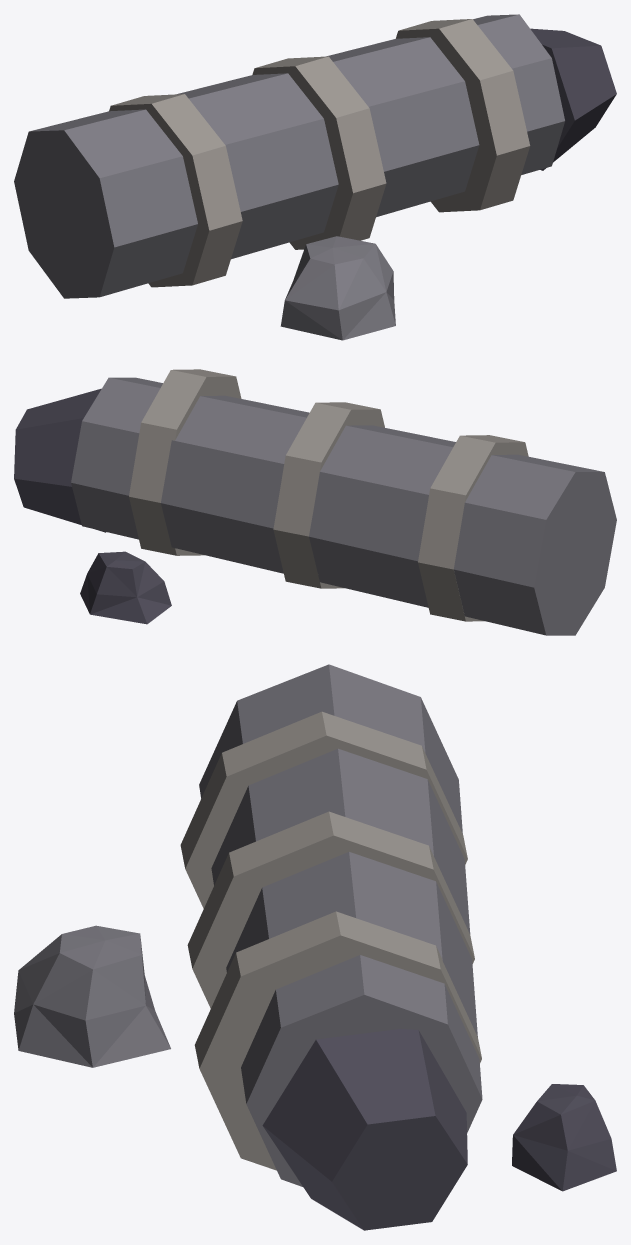
File: fallen_pillar.fbx
3 views of the same model, one above another, from view 1: azimuth 30°, elevation 25°; view 2: azimuth 150°, elevation 25°; view 3: azimuth 270°, elevation 25° (orthographic). The views are drawn at different scales.
Visible parts, largest first — view 1: fallen_pillar; view 2: fallen_pillar; view 3: fallen_pillar.
Part boxes in pixels (x1,y1,x2,y2): fallen_pillar: (14,14,616,340); fallen_pillar: (14,369,616,635); fallen_pillar: (14,664,616,1230).
Size of the model in its own units: 3.81 by 1.2 by 2.55.
